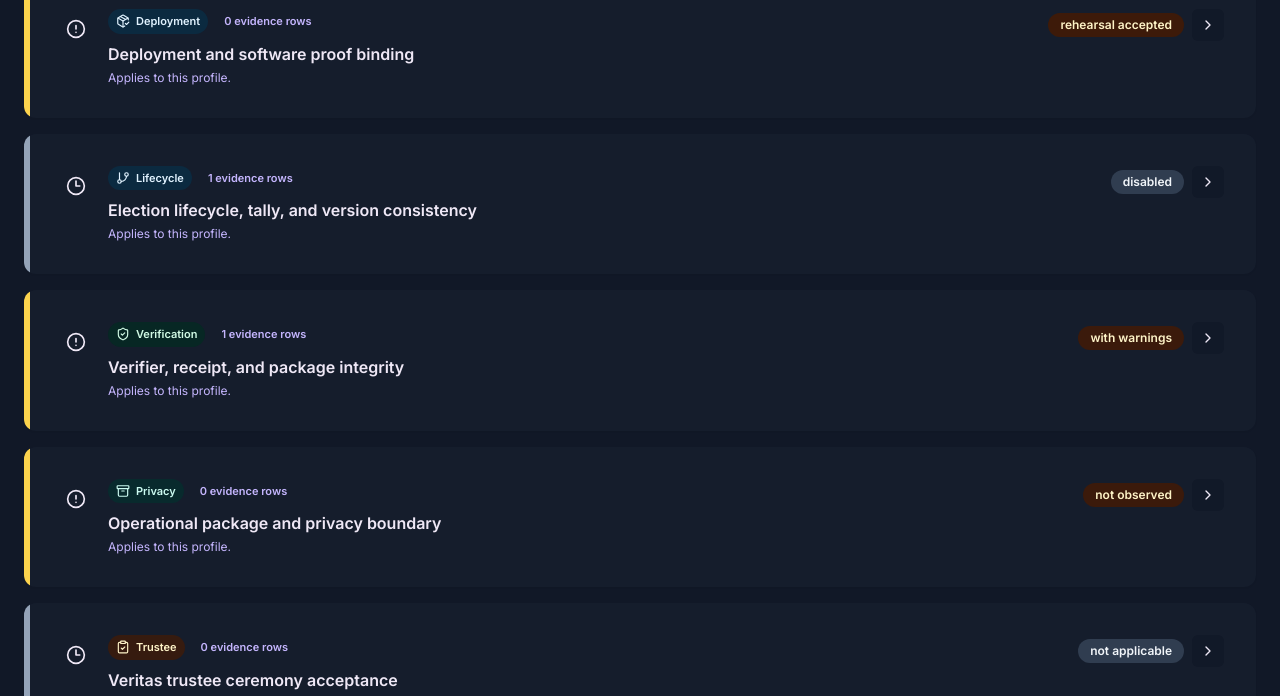
Test: ReadinessProfileCheckPage › shows the row-level reason for warning evidence rows
(page scrolled)
Click the button named "Expand Verifier, receipt, and package integrity" at (1208, 338), box [1192, 322, 1224, 354]
(page scrolled)
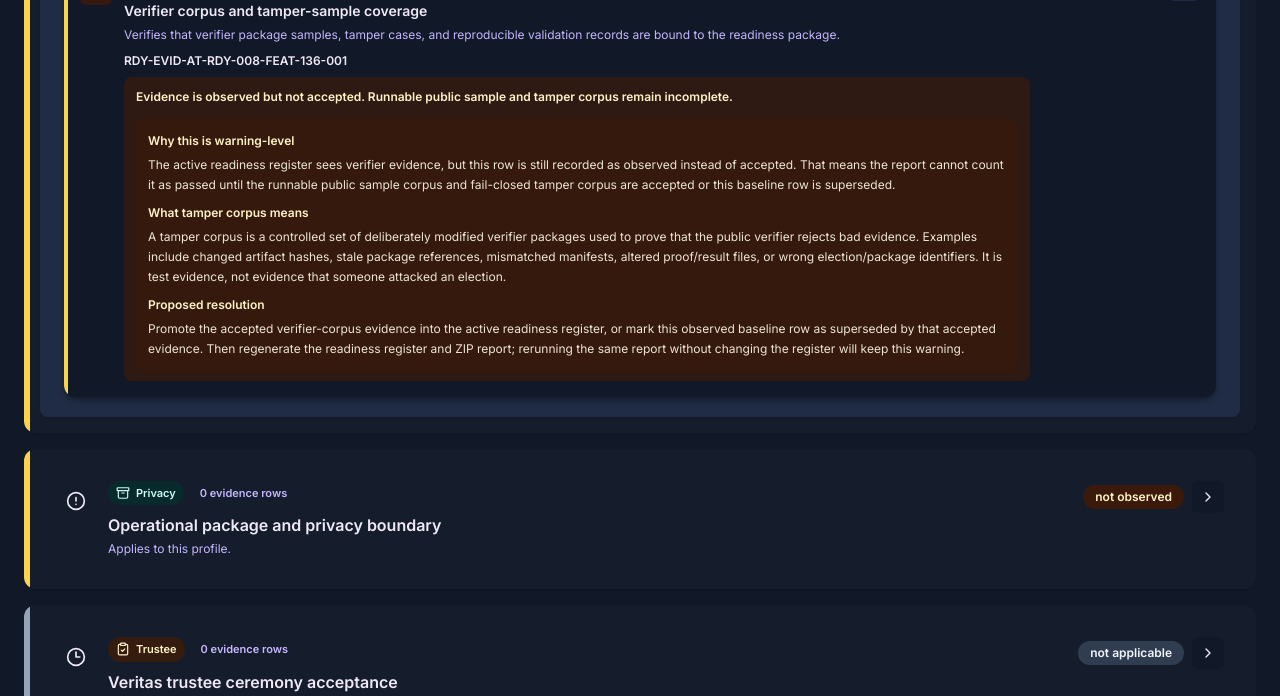
expect the text "Evidence is observed but not accepted" is shown: met, box [136, 88, 733, 104]
expect the text "Why this is warning-level" is shown: met, box [148, 132, 294, 148]
expect the text "What tamper corpus means" is shown: met, box [148, 204, 309, 220]
